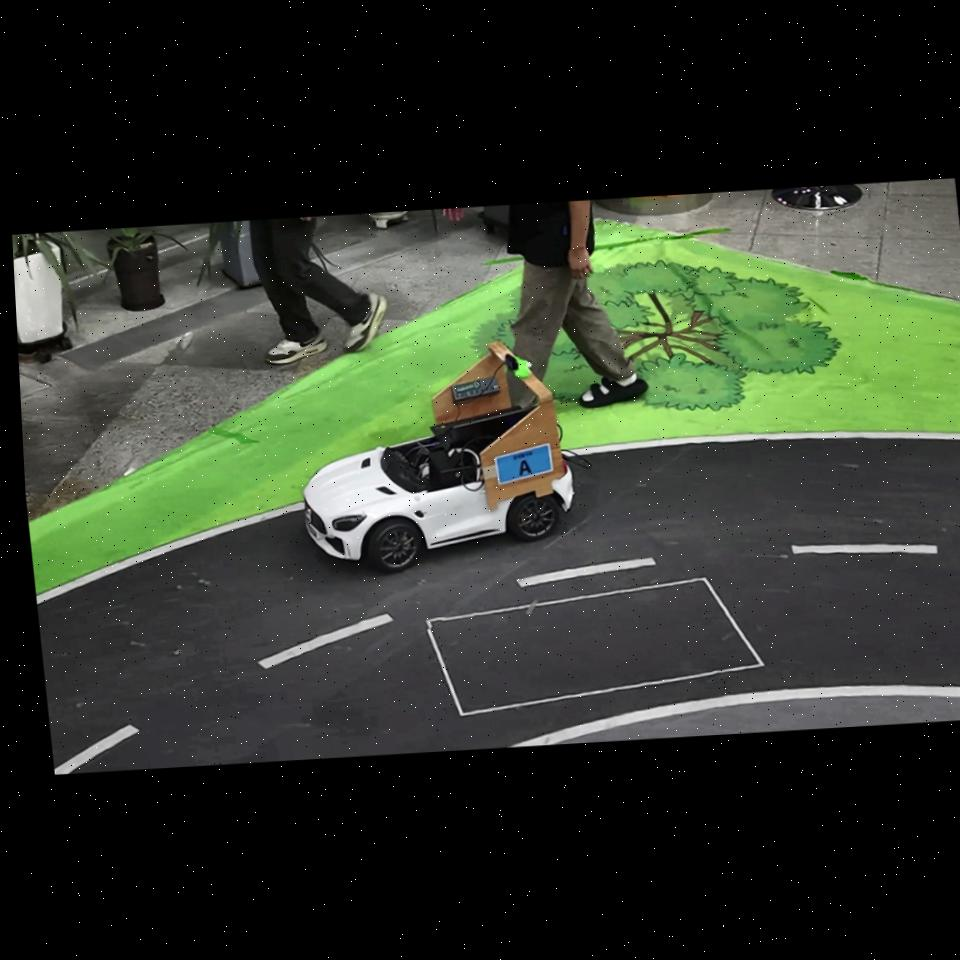broken_line: (257, 613, 394, 669), (54, 724, 140, 774), (517, 557, 656, 587), (791, 543, 938, 554)
